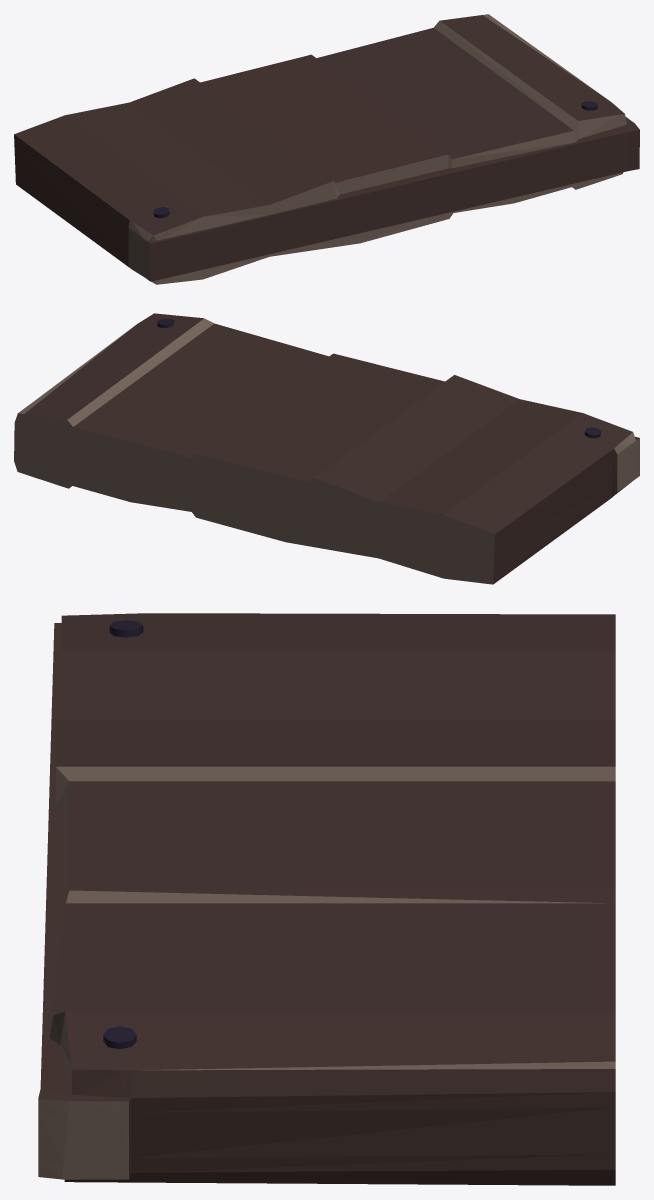
The model's file is MCastle_Floorboards_03.FBX.
3 renders of one model, top to bottom at view 1: azimuth 30°, elevation 25°; view 2: azimuth 150°, elevation 25°; view 3: azimuth 270°, elevation 25°, orthographic. The views are drawn at different scales.
Visible parts, largest first — view 1: MCastle_Floorboards_03_LOD0; view 2: MCastle_Floorboards_03_LOD0; view 3: MCastle_Floorboards_03_LOD0.
Boxes of the visible parts, bbox=[...] form: MCastle_Floorboards_03_LOD0: bbox=[14, 14, 639, 284]; MCastle_Floorboards_03_LOD0: bbox=[14, 313, 639, 584]; MCastle_Floorboards_03_LOD0: bbox=[38, 613, 615, 1185].
Size of what is drawn, in the model's own units: 4.08 by 0.5649 by 2.09.
